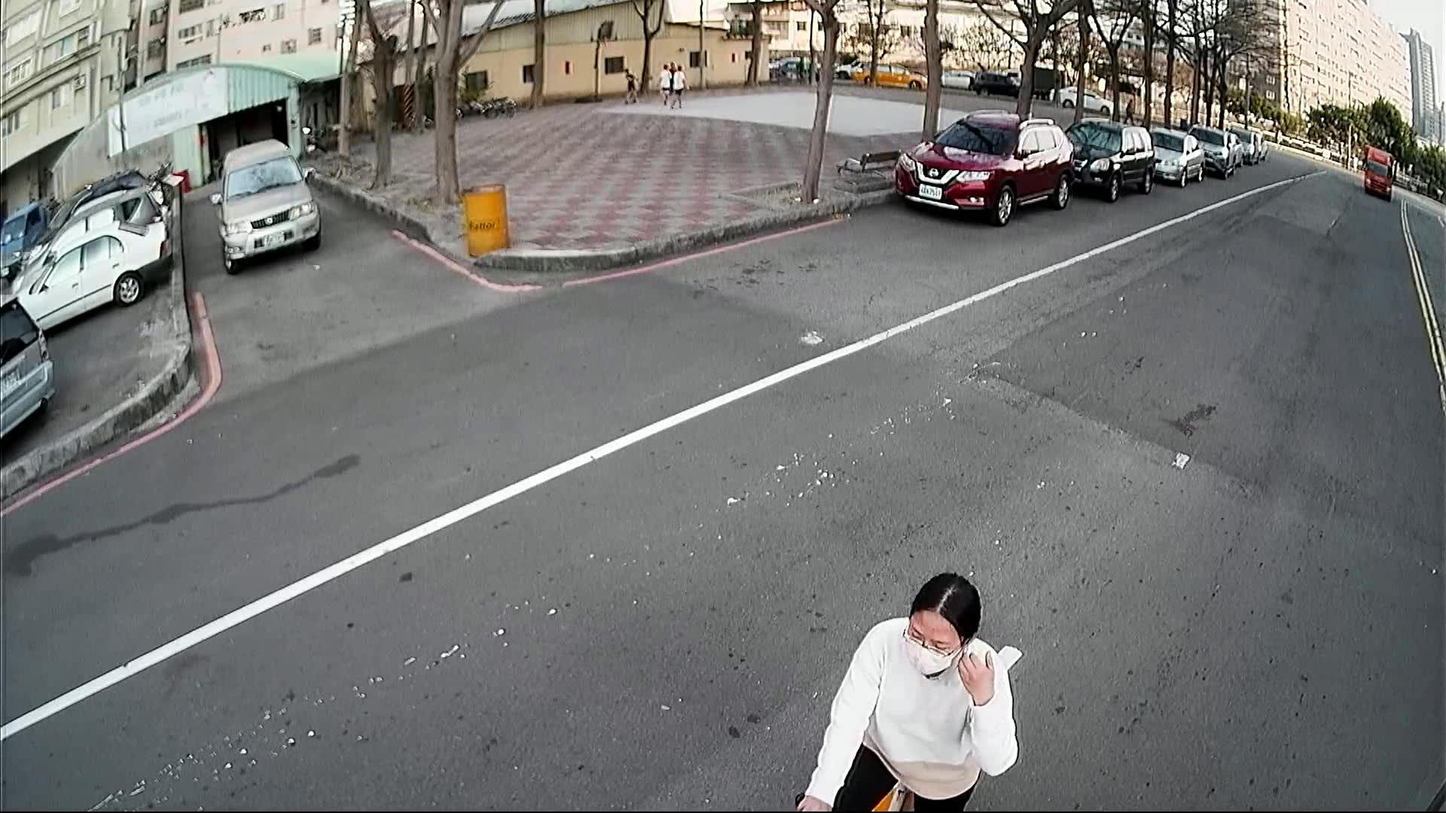person: (787, 559, 1019, 812)
